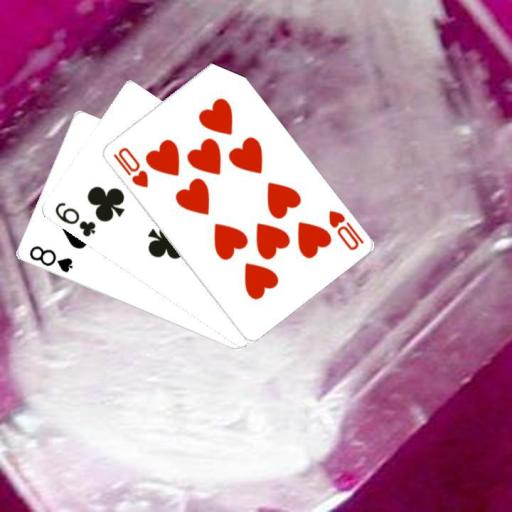10H: (324, 207, 365, 252), (110, 144, 150, 189)
6C: (51, 199, 97, 239)
8S: (26, 243, 75, 275)
